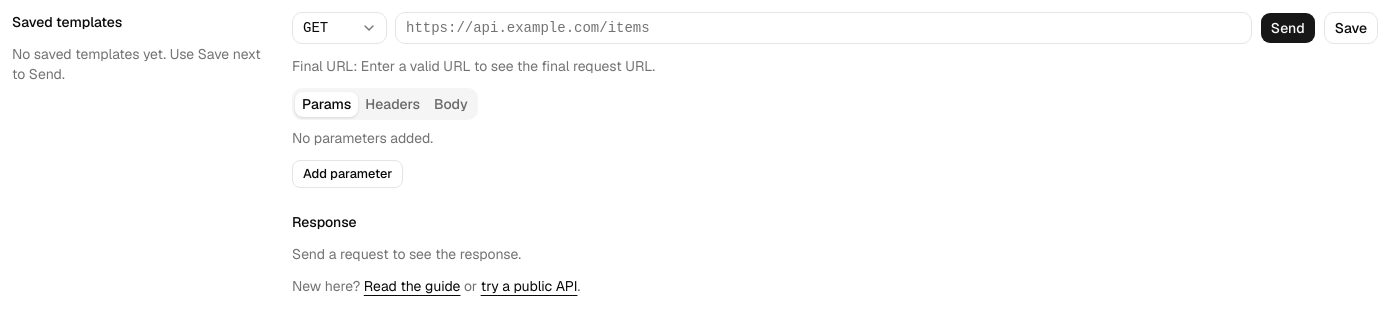
Test: Playground execution (FR-04, FR-07) › shows an execution failure and allows sending again
The width and height of the screenshot is (1390, 314).
Type "https://api.example.com" into the field named "URL" at (823, 28), box [395,12,1252,44]
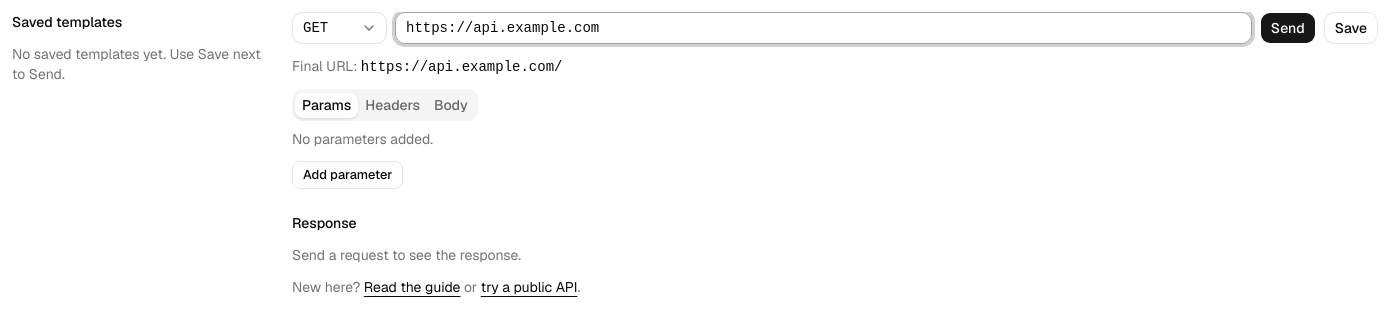
Click the button "Send" at (1288, 28), box [1260,12,1316,44]
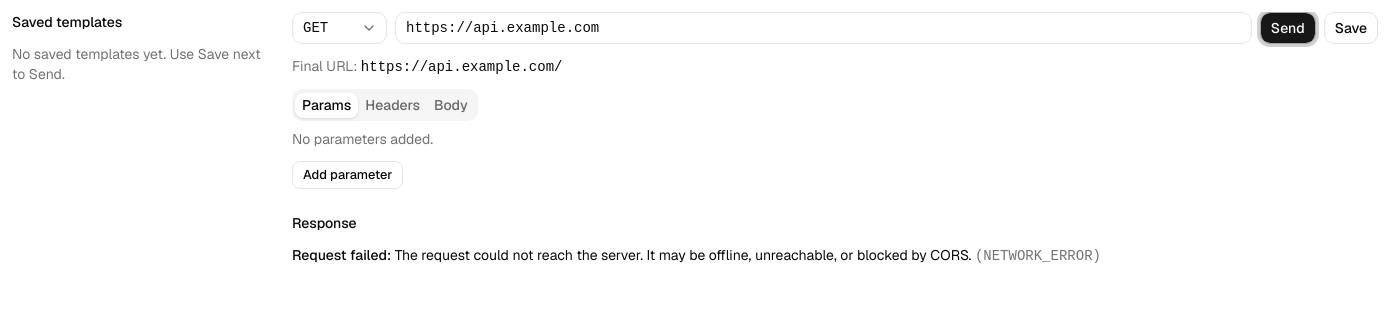
expect the message shows "Request failed:": met, box [292,246,391,264]
expect the message shows "(NETWORK_ERROR)": met, box [983,248,1092,264]
